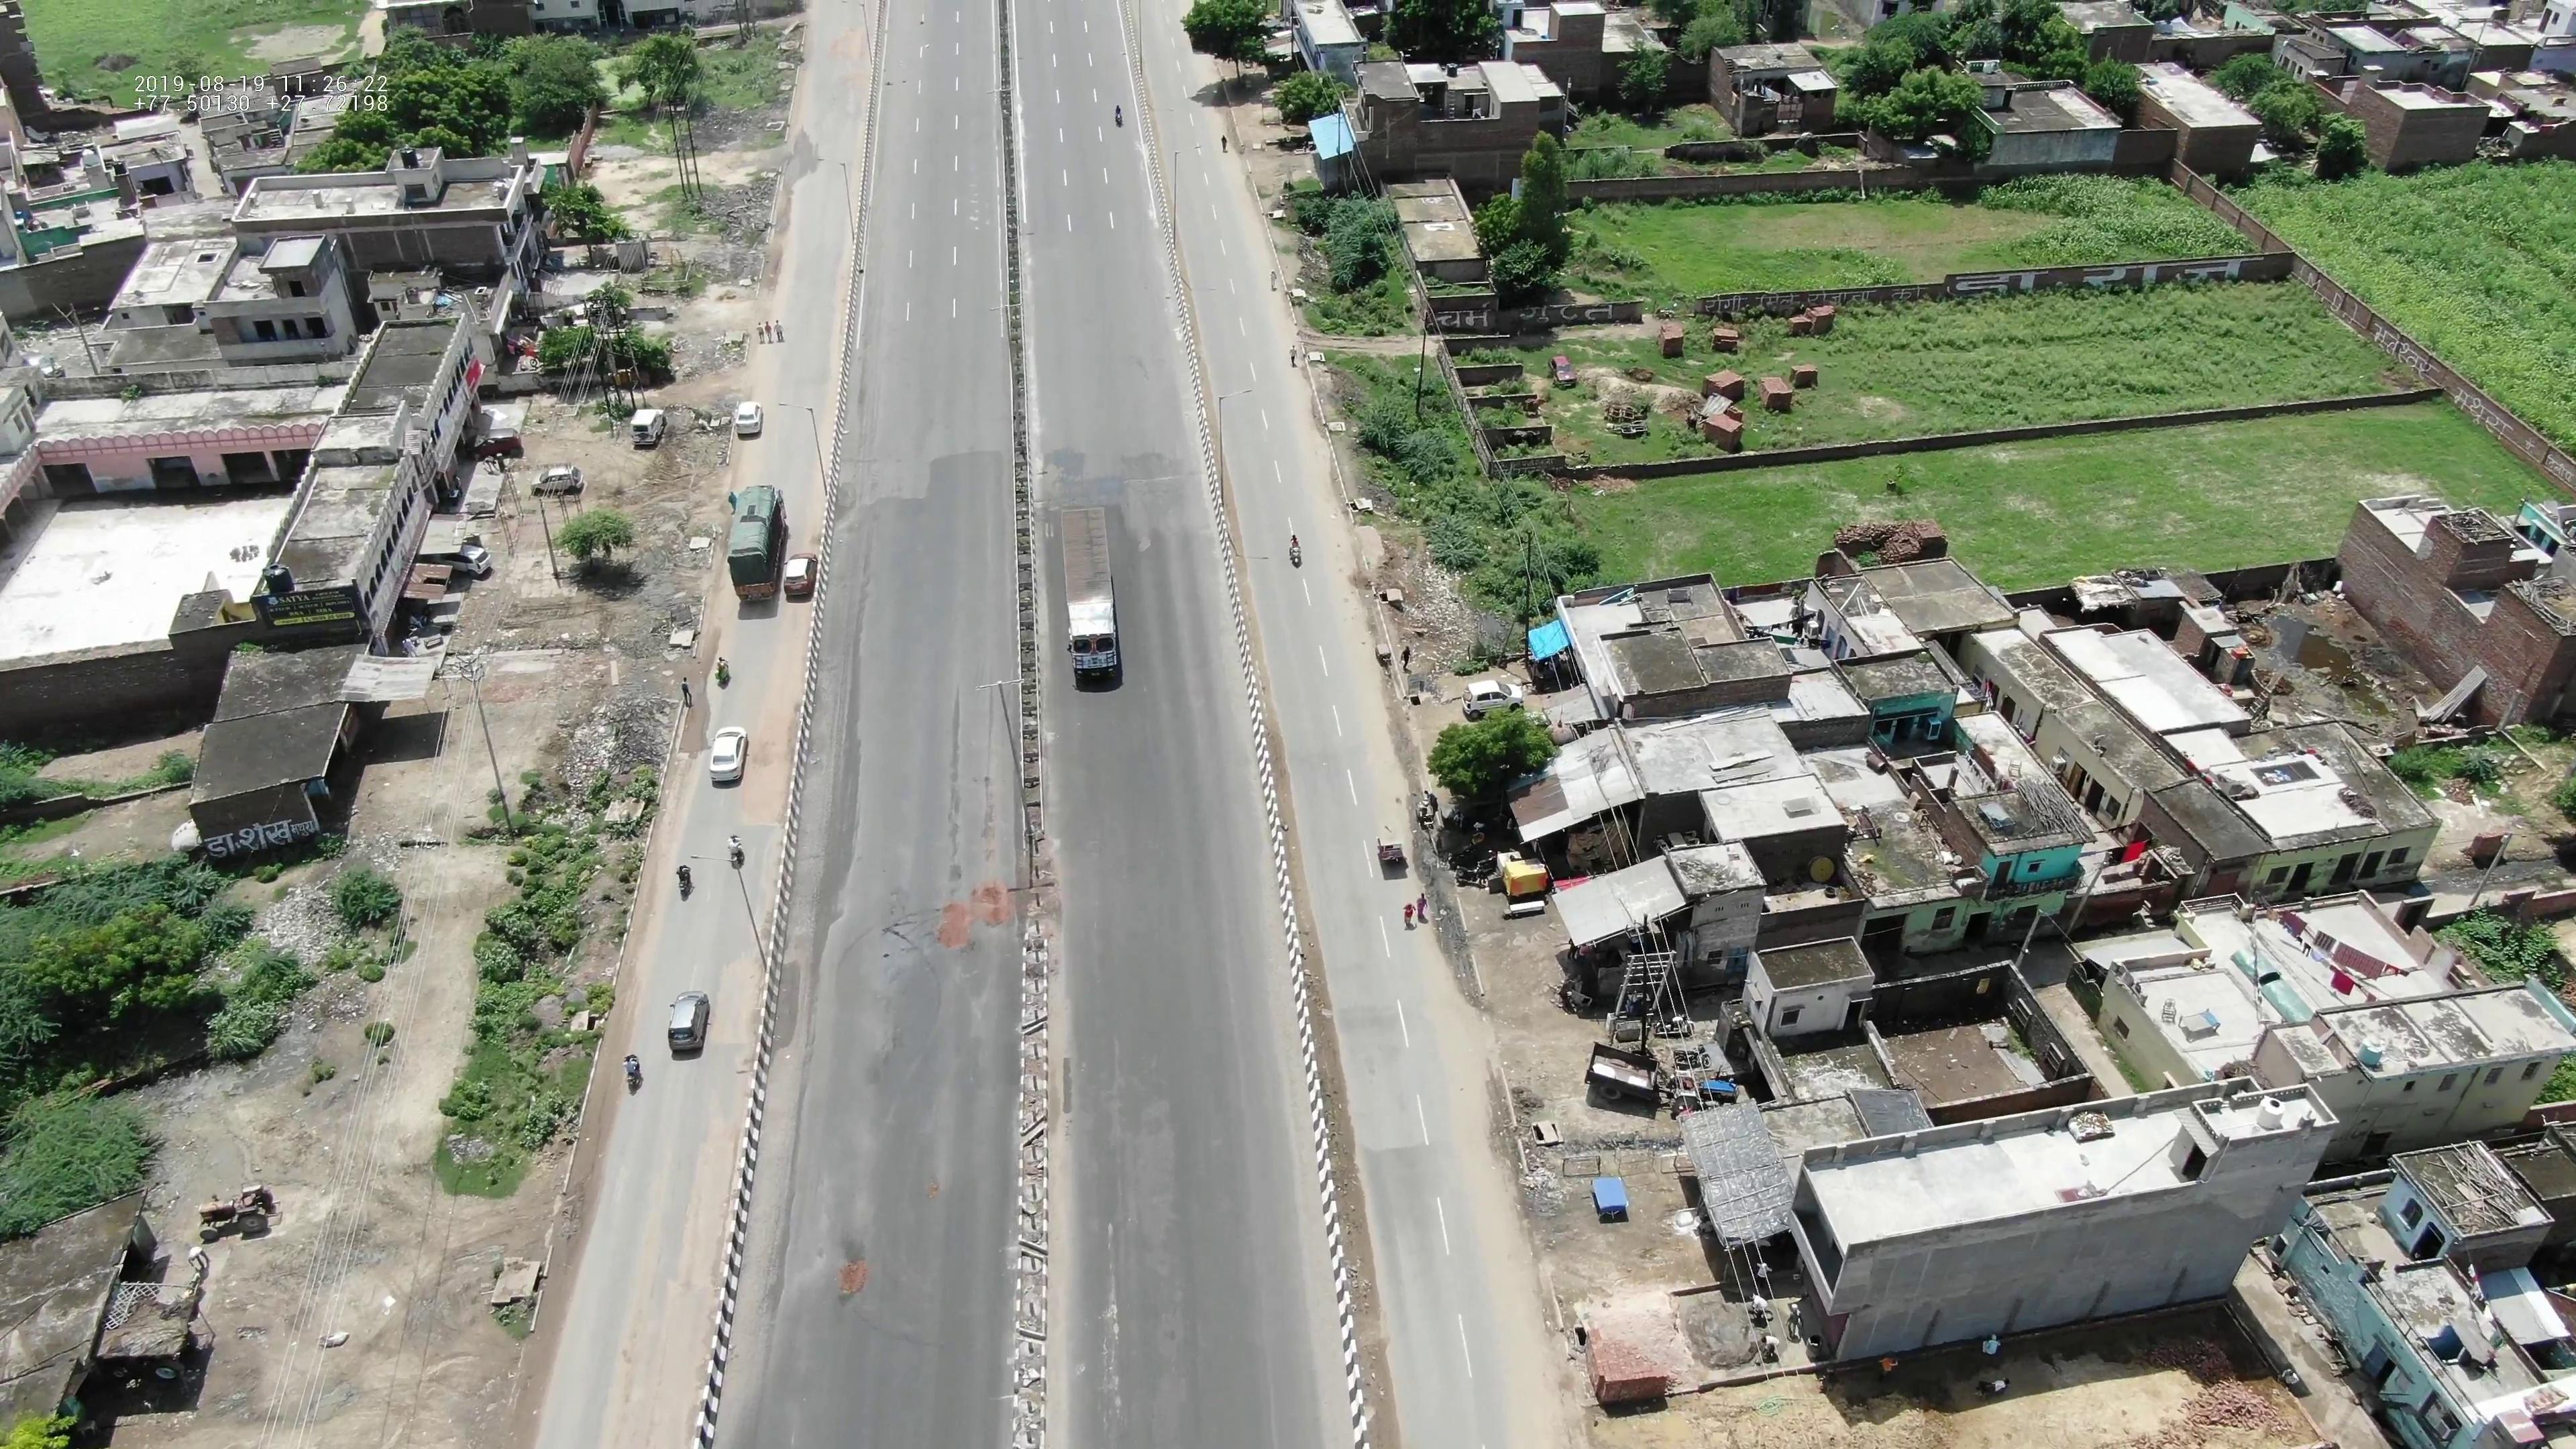Potholes: (816, 1240, 890, 1315)
Ravelling: (941, 694, 968, 895), (980, 694, 1001, 879)
